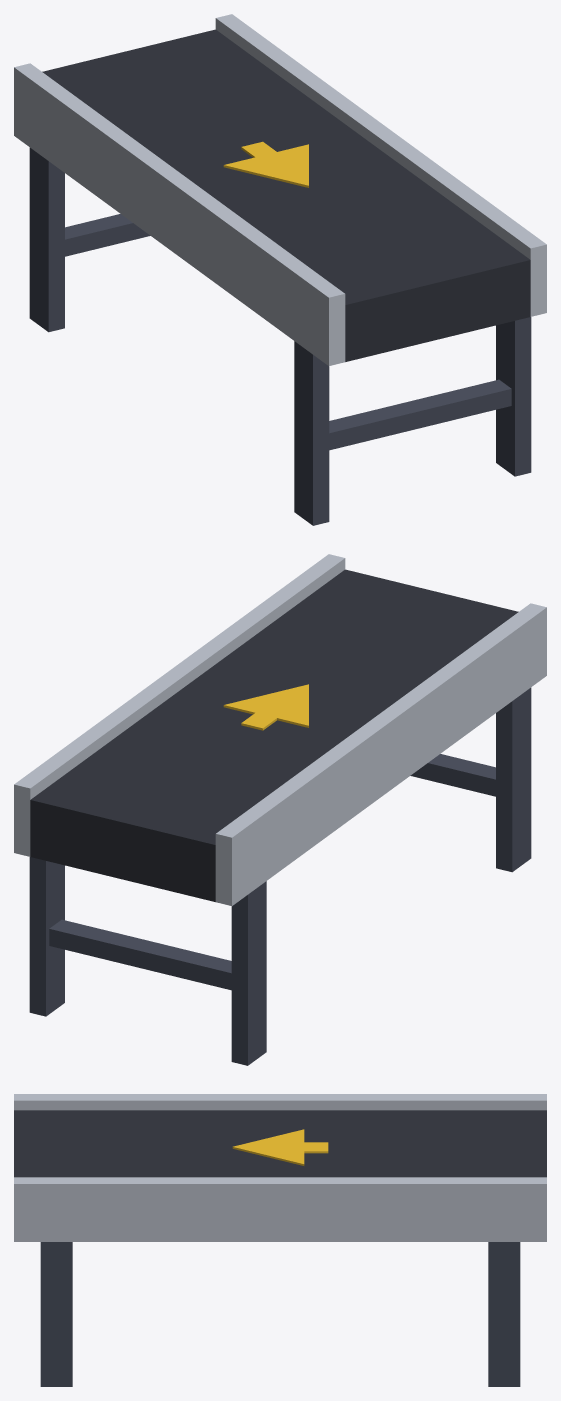
Rendered from conveyor-straight.glb.
The picture shows the model from 3 angles, top to bottom: view 1: azimuth 30°, elevation 25°; view 2: azimuth 150°, elevation 25°; view 3: azimuth 270°, elevation 25°; orthographic projection. The views are drawn at different scales.
Visible parts, largest first — view 1: conveyor-straight; view 2: conveyor-straight; view 3: conveyor-straight.
Boxes of the visible parts, box(x1,y1,x2,y2) form: conveyor-straight: box(14, 14, 546, 525); conveyor-straight: box(14, 554, 546, 1065); conveyor-straight: box(14, 1094, 546, 1386).
Bounding box in the file's own units: 0.4 × 0.42 × 1.
1 material, 1 textured.
